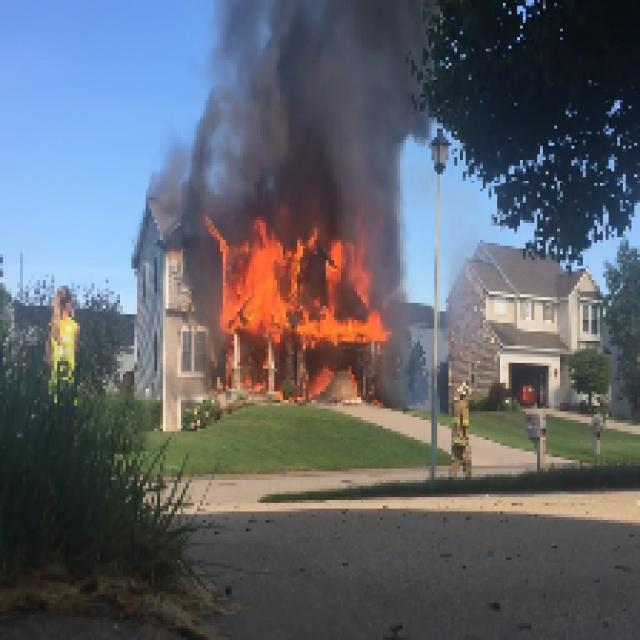Fire: (217, 240, 383, 337)
Smoke: (174, 3, 423, 200), (388, 208, 432, 402)
